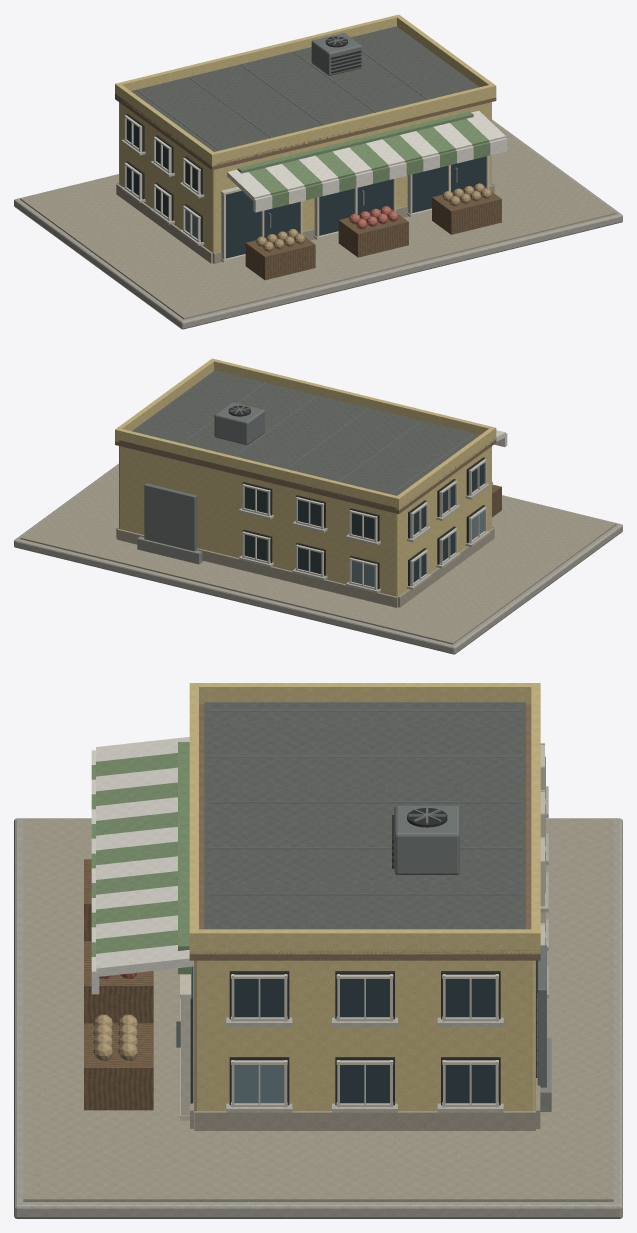
The model's file is EXP_SHOP_MARKET.glb.
The picture shows the model from 3 angles, top to bottom: view 1: azimuth 30°, elevation 25°; view 2: azimuth 150°, elevation 25°; view 3: azimuth 270°, elevation 25°; orthographic projection. The views are drawn at different scales.
Visible parts, largest first — view 1: EXP_SHOP_MARKET_Visual; view 2: EXP_SHOP_MARKET_Visual; view 3: EXP_SHOP_MARKET_Visual.
Boxes of the visible parts, x1=… form: EXP_SHOP_MARKET_Visual: x1=14, y1=14, x2=622, y2=329; EXP_SHOP_MARKET_Visual: x1=14, y1=358, x2=622, y2=654; EXP_SHOP_MARKET_Visual: x1=14, y1=683, x2=622, y2=1218.
Size of what is drawn, in the model's own units: 5.92 by 1.8 by 3.92.
18 materials, 13 textured.
